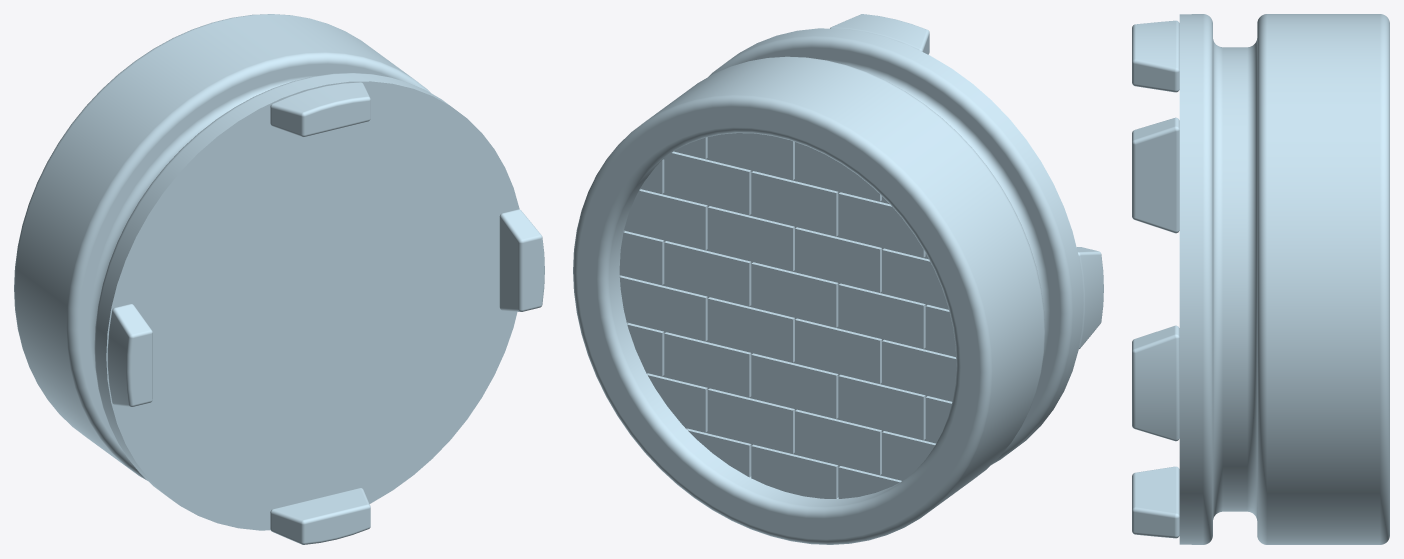
The model's file is Card Holder Coffee Table.gltf.
3 renders of one model, left to right at view 1: azimuth 30°, elevation 25°; view 2: azimuth 150°, elevation 25°; view 3: azimuth 270°, elevation 25°, orthographic. The views are drawn at different scales.
Visible parts, largest first — view 1: Part 1; view 2: Part 1; view 3: Part 1.
Boxes of the visible parts, <box> form: Part 1: <box>14,14,544,544</box>; Part 1: <box>573,14,1103,544</box>; Part 1: <box>1132,14,1389,544</box>.
Size of the model in its own units: 0.1016 by 0.1016 by 0.0494.
